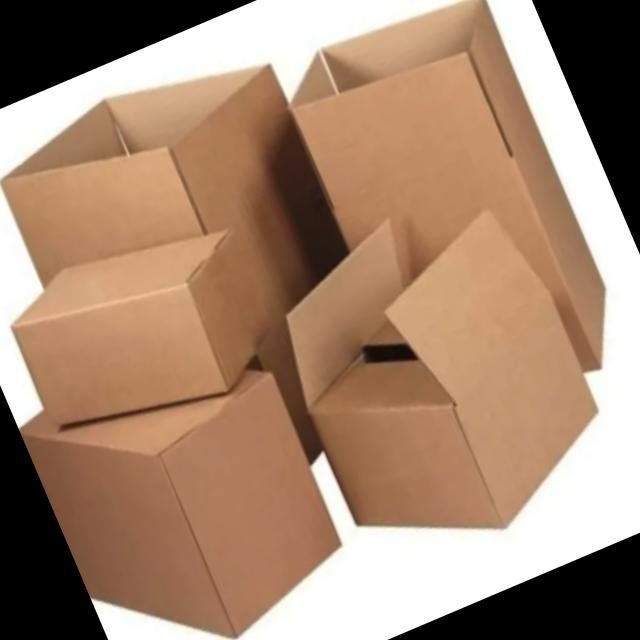Kardus: (0, 0, 640, 640), (0, 28, 421, 534), (267, 0, 636, 441), (246, 168, 630, 583), (14, 317, 363, 640), (0, 197, 292, 460)
